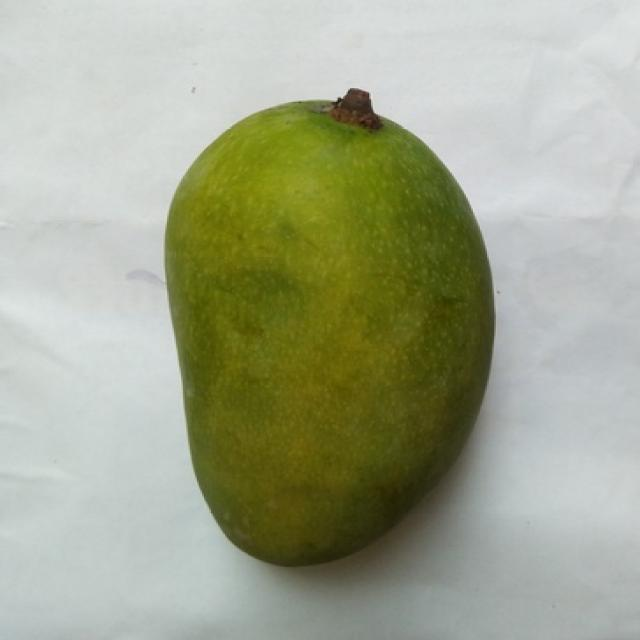Mango: (165, 100, 492, 564)
